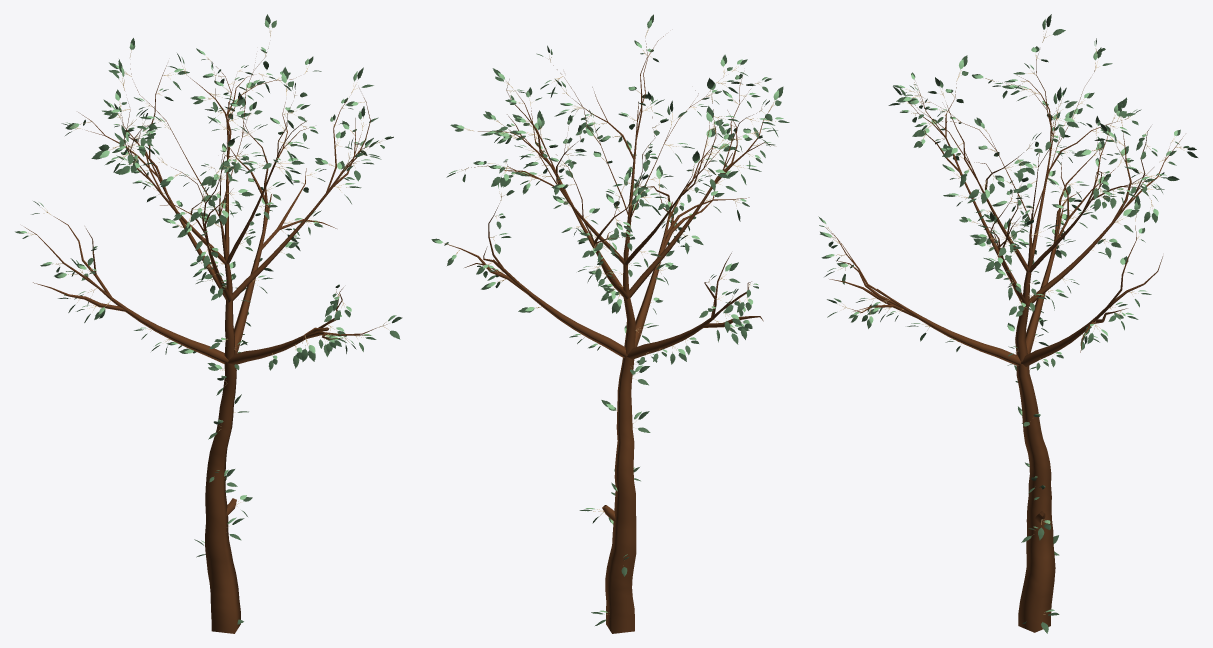
The model's file is Tree33.fbx.
3 renders of one model, left to right at view 1: azimuth 30°, elevation 25°; view 2: azimuth 150°, elevation 25°; view 3: azimuth 270°, elevation 25°, orthographic. The views are drawn at different scales.
Visible parts, largest first — view 1: Árbol.002; view 2: Árbol.002; view 3: Árbol.002.
Part boxes in pixels (box(x1,y1,x2,y2)): Árbol.002: box(25, 48, 377, 633); Árbol.002: box(446, 36, 772, 633); Árbol.002: box(825, 53, 1183, 632).
Bounding box in the file's own units: 942 × 1640 × 998.
